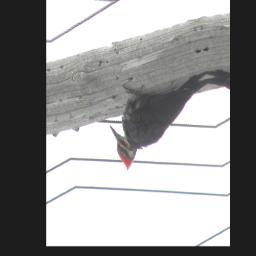Woodpecker: (101, 65, 219, 176)
